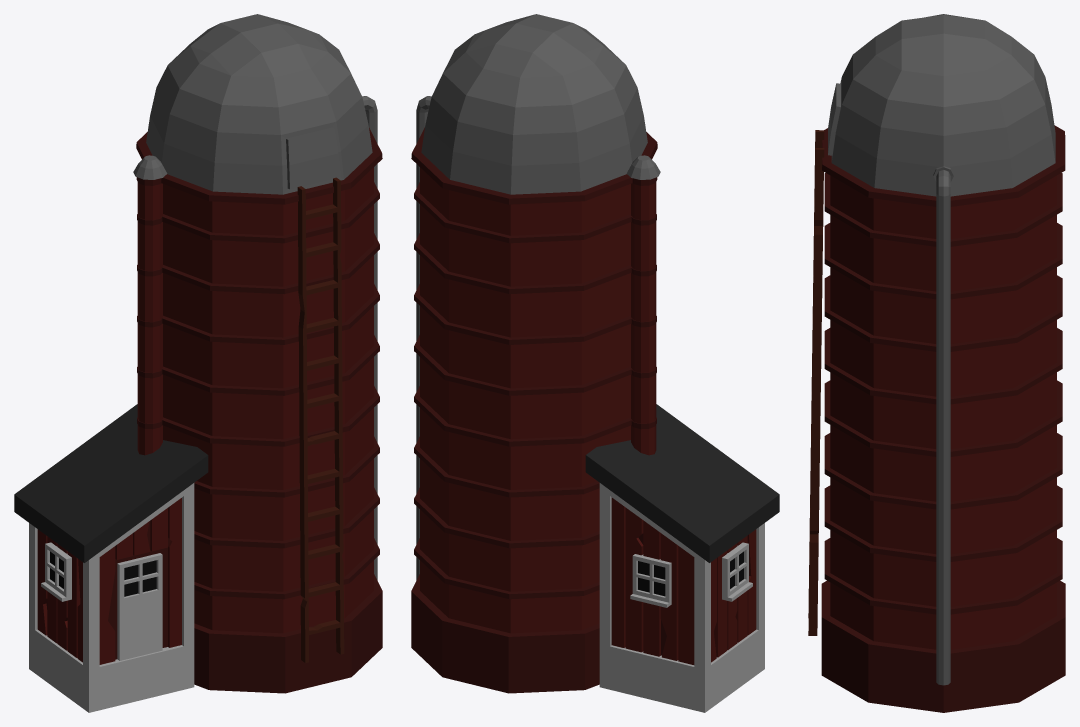
File: Silo_House.FBX
3 views of the same model, side by side, from view 1: azimuth 30°, elevation 25°; view 2: azimuth 150°, elevation 25°; view 3: azimuth 270°, elevation 25° (orthographic). The views are drawn at different scales.
Parts seen in each view (by area): view 1: Silo_House; view 2: Silo_House; view 3: Silo_House.
Boxes of the visible parts, x1=… form: Silo_House: x1=14, y1=14, x2=382, y2=712; Silo_House: x1=411, y1=14, x2=779, y2=712; Silo_House: x1=808, y1=14, x2=1065, y2=712.
Bounding box in the file's own units: 534 × 956 × 351.
